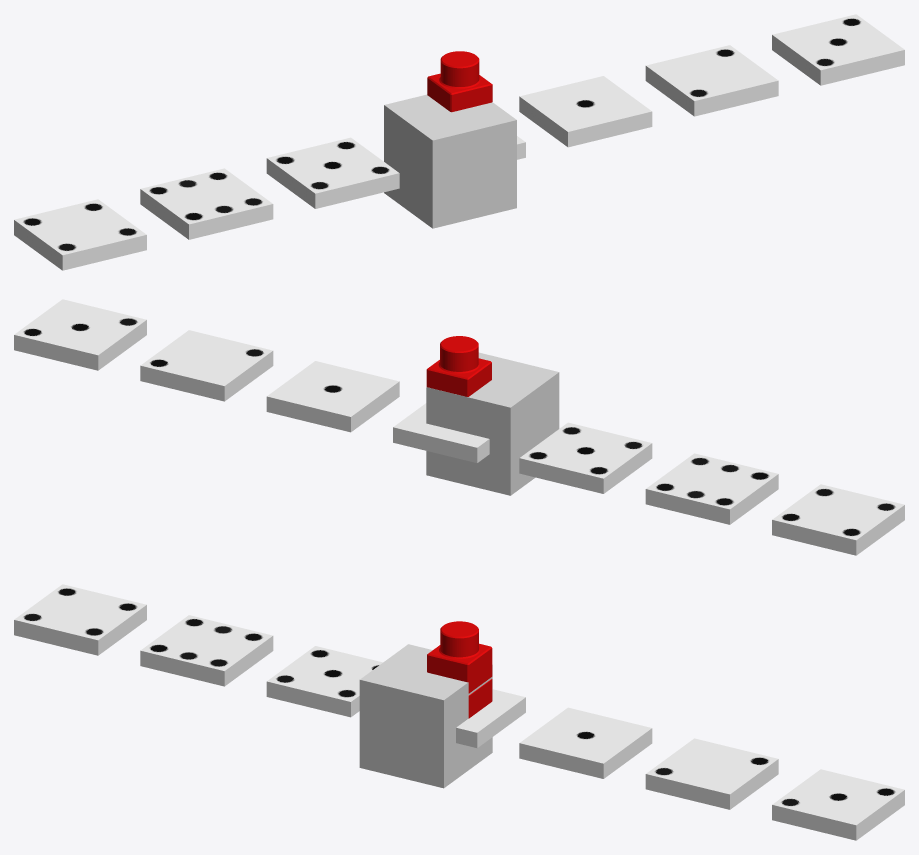
Rendered from red.glb.
The picture shows the model from 3 angles, top to bottom: view 1: azimuth 30°, elevation 25°; view 2: azimuth 150°, elevation 25°; view 3: azimuth 330°, elevation 25°; orthographic projection.
Parts seen in each view (by area): view 1: Cube, Dom.101, Dom.303, Dom.212, Dom.010, Dom.202, Dom.111, Cube.001; view 2: Cube, Dom.101, Dom.303, Dom.212, Dom.010, Dom.202, Dom.111, Cube.001, Dom.000; view 3: Cube, Dom.101, Dom.303, Dom.010, Dom.202, Dom.111, Dom.212, Cube.001, Dom.000.
Boxes of the visible parts, x1,y1,x2,y2 form: Cube: [384, 94, 516, 228]; Dom.101: [645, 45, 778, 116]; Dom.303: [140, 168, 273, 239]; Dom.212: [266, 137, 399, 208]; Dom.010: [519, 76, 652, 147]; Dom.202: [14, 199, 146, 270]; Dom.111: [772, 14, 904, 85]; Cube.001: [427, 51, 492, 112]; Cube: [426, 352, 559, 495]; Dom.101: [140, 330, 273, 401]; Dom.303: [645, 453, 778, 524]; Dom.212: [519, 422, 652, 493]; Dom.010: [266, 361, 399, 432]; Dom.202: [772, 484, 904, 555]; Dom.111: [14, 299, 146, 370]; Cube.001: [426, 336, 491, 396]; Dom.000: [393, 403, 489, 462]; Cube: [359, 644, 492, 788]; Dom.101: [645, 738, 778, 809]; Dom.303: [140, 615, 273, 686]; Dom.010: [519, 707, 652, 778]; Dom.202: [14, 584, 146, 655]; Dom.111: [772, 769, 904, 840]; Dom.212: [266, 646, 382, 717]; Cube.001: [427, 621, 492, 718]; Dom.000: [456, 689, 525, 747].
Size of the model in its own units: 20 by 2.9 by 2.5.
8 materials, 6 textured.
